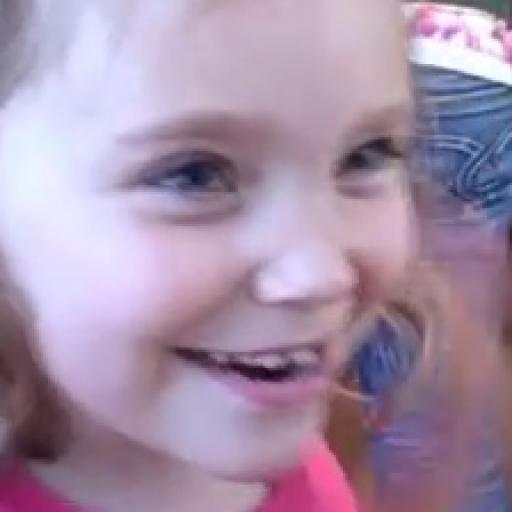Autism: (70, 19, 512, 479)
